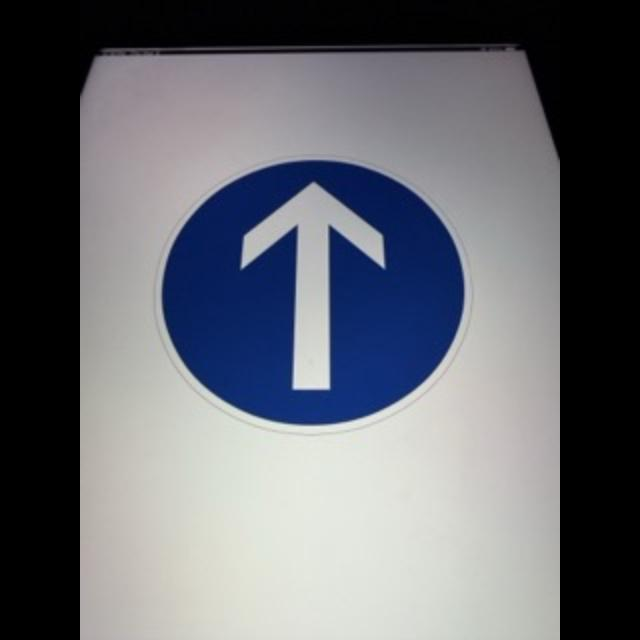GO FORWARD: (158, 149, 482, 437)
